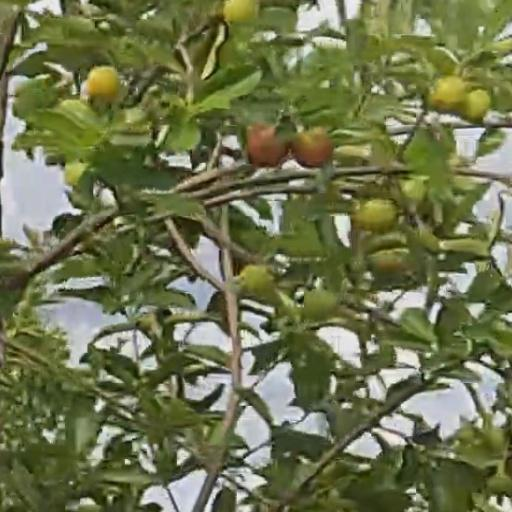acerola: (247, 122, 286, 164), (294, 129, 334, 167), (222, 1, 262, 29), (88, 68, 119, 103), (428, 75, 459, 107)
